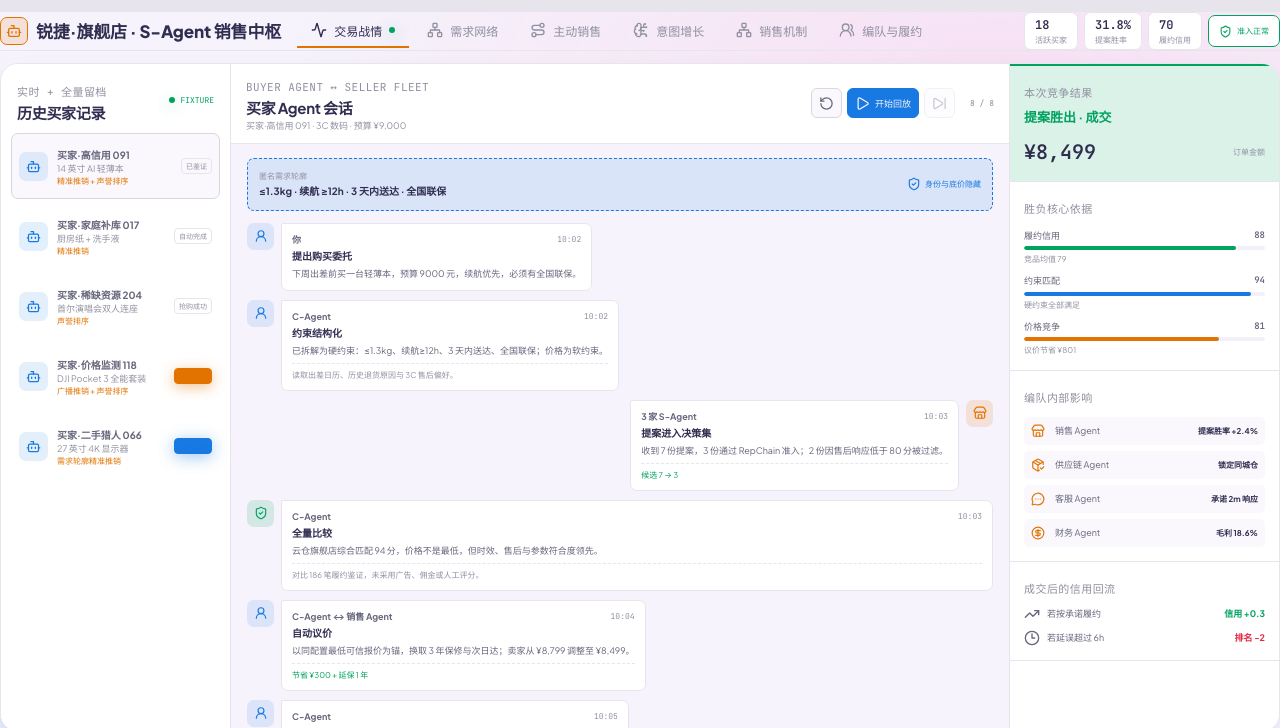
Test: 商家端演示工作台 › 主动销售页展示商品、授权 Router 和真实启动入口
Click the button "主动销售" at (566, 31), box [516,14,615,48]
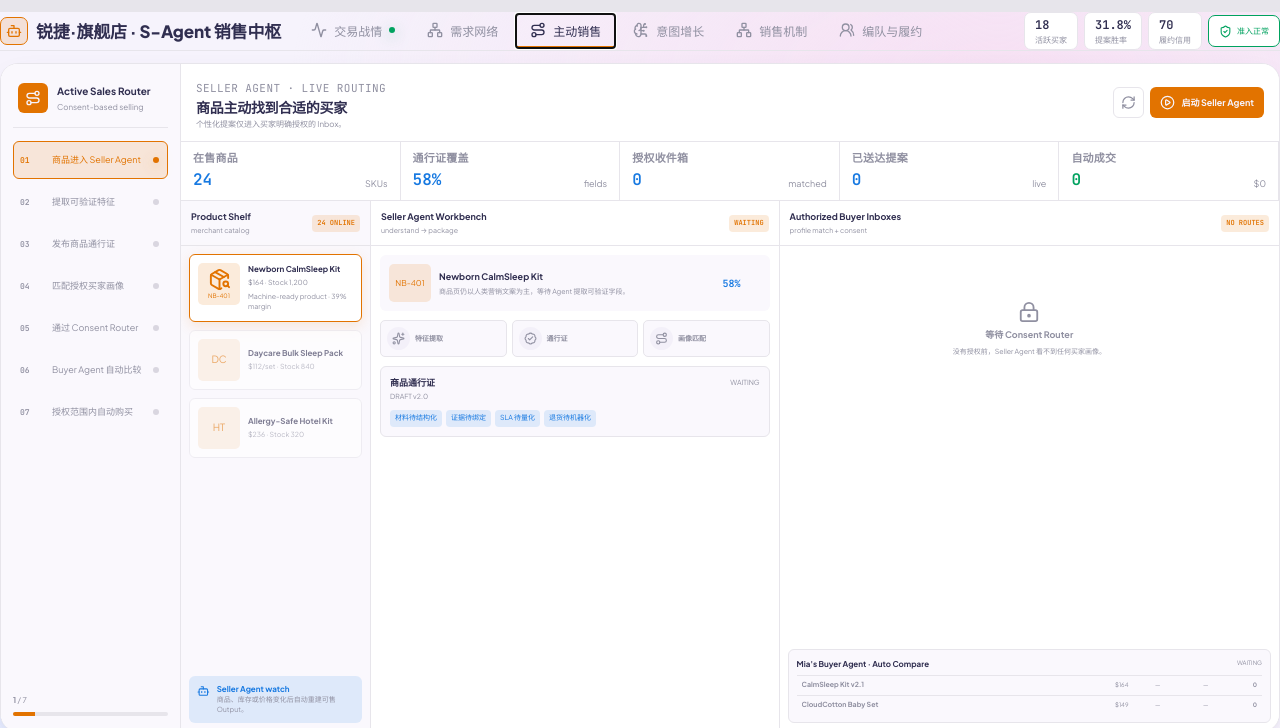
Now the heading "商品主动找到合适的买家" is shown, box [196,98,347,116]
Now the text "Product Shelf" is shown, box [191,210,251,224]
Now the text "Authorized Buyer Inboxes" is shown, box [790,210,901,224]
